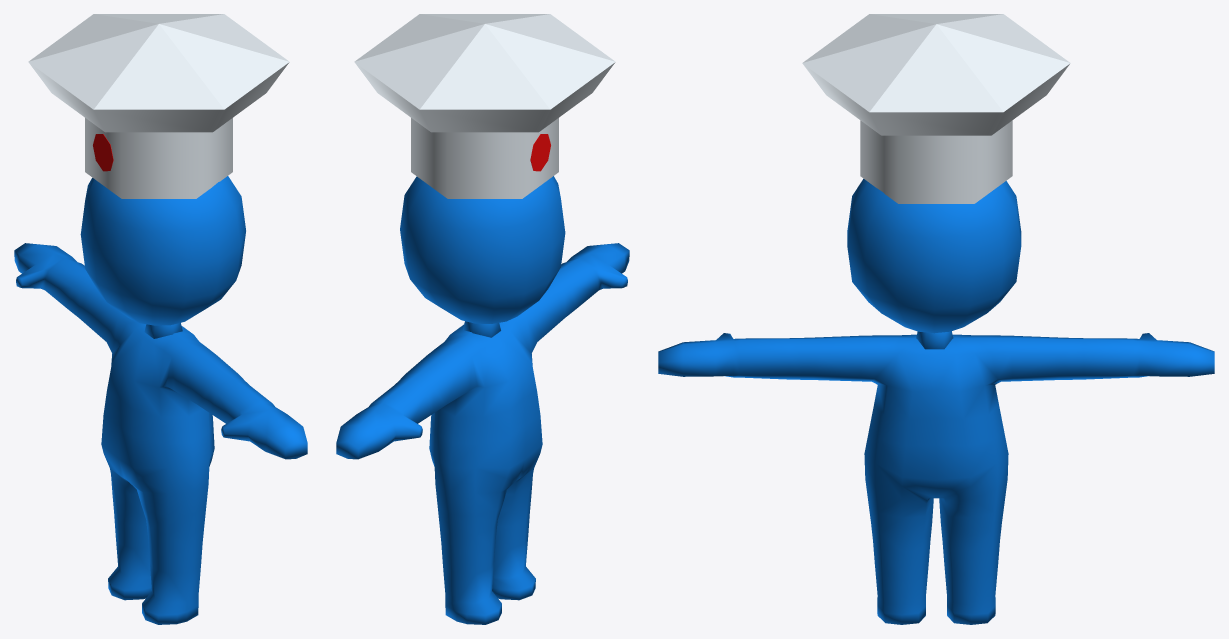
File: cha03_player.FBX
3 renders of one model, left to right at view 1: azimuth 30°, elevation 25°; view 2: azimuth 150°, elevation 25°; view 3: azimuth 270°, elevation 25°, orthographic. The views are drawn at different scales.
Parts seen in each view (by area): view 1: cha03_player, Cha02_player_mu; view 2: cha03_player, Cha02_player_mu; view 3: cha03_player, Cha02_player_mu.
Part boxes in pixels (left/top/right/bottom): cha03_player: left=14, top=176, right=307, bottom=624; Cha02_player_mu: left=28, top=14, right=289, bottom=198; cha03_player: left=336, top=176, right=629, bottom=624; Cha02_player_mu: left=354, top=14, right=615, bottom=198; cha03_player: left=658, top=178, right=1214, bottom=624; Cha02_player_mu: left=802, top=14, right=1070, bottom=203.
Bounding box in the file's own units: 1.02 × 2.86 × 2.44.
